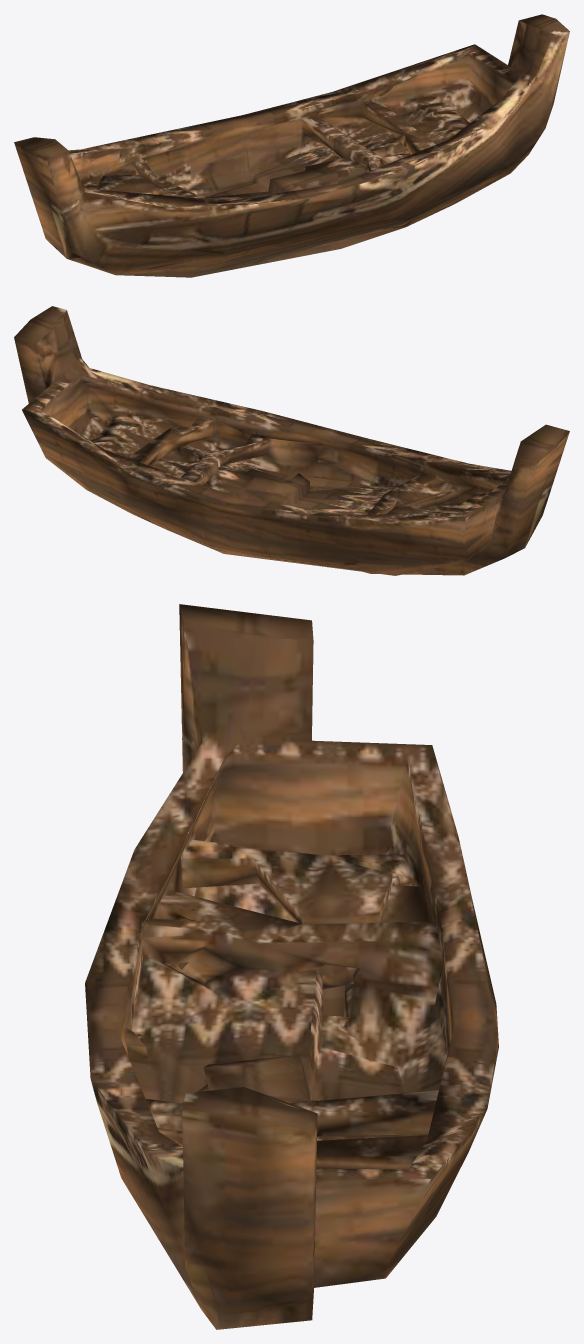
File: toad-prop3d-boat-lo.glb
3 renders of one model, top to bottom at view 1: azimuth 30°, elevation 25°; view 2: azimuth 150°, elevation 25°; view 3: azimuth 270°, elevation 25°, orthographic. The views are drawn at different scales.
Visible parts, largest first — view 1: world; view 2: world; view 3: world.
Part boxes in pixels (<box>): world: <box>14,14,569,277</box>; world: <box>14,306,569,575</box>; world: <box>85,604,498,1329</box>.
Bounding box in the file's own units: 0.1598 × 0.05 × 0.0546.
1 material, 1 textured.
